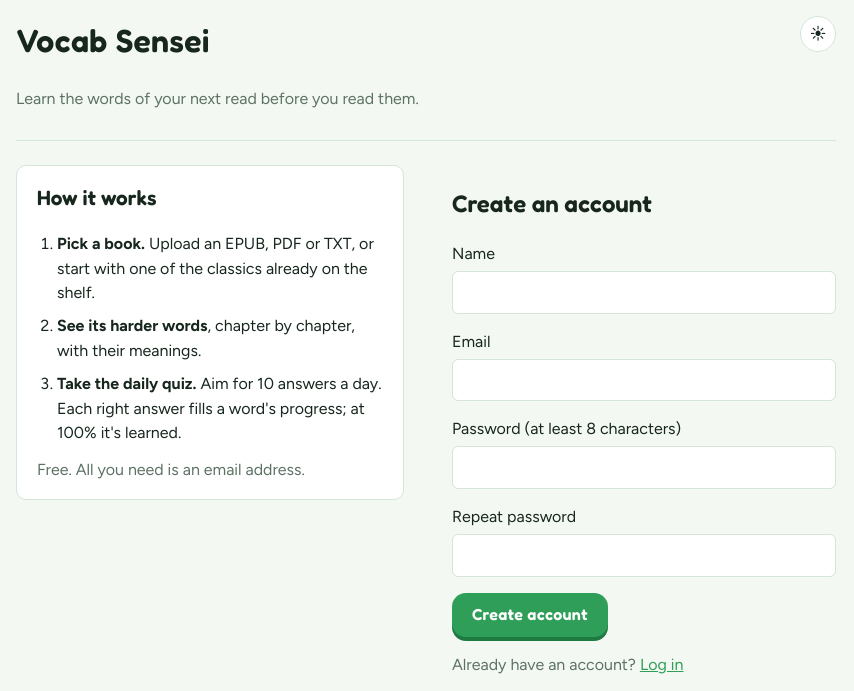
Scenario: register › creates the account and asks to check email
The width and height of the screenshot is (854, 691).
Type "Reader" into the field labelled "Name" at [644, 292], box [452,271,836,314]
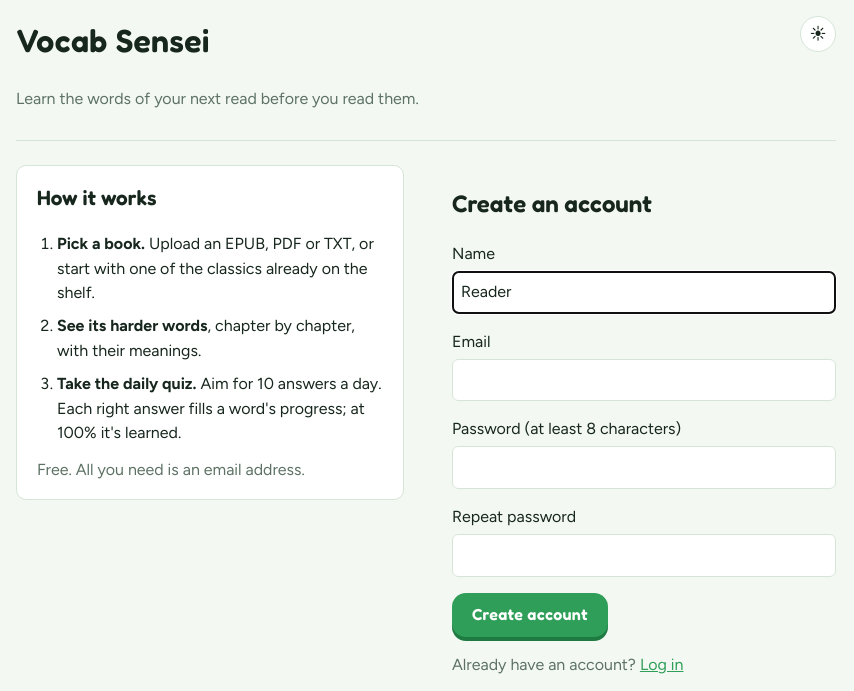
Type "reader@example.com" into the field labelled "Email" at [644, 380], box [452,359,836,402]
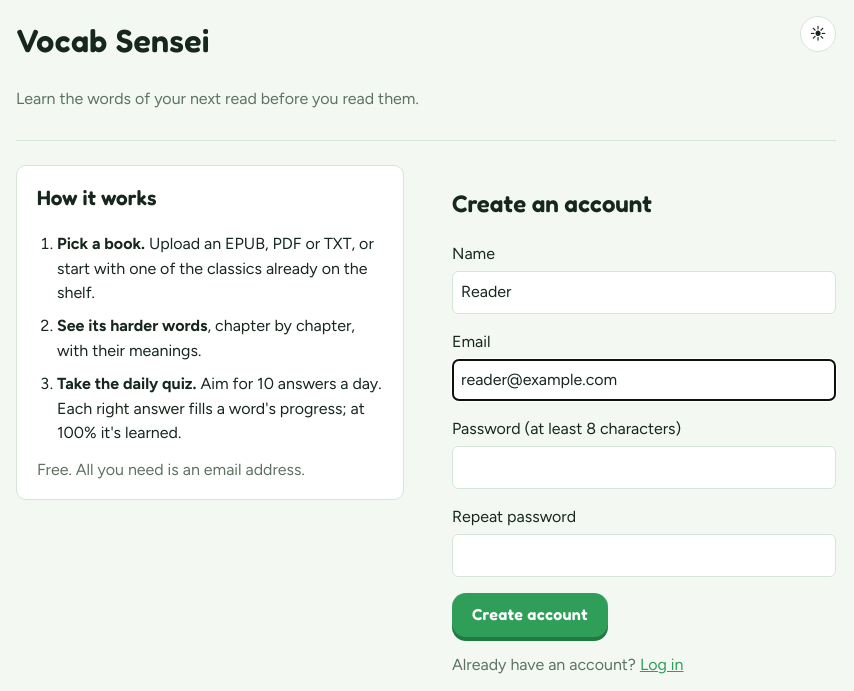
Type "correct horse battery" into the password field labelled "Password (at least 8 characters)" at [644, 468], box [452,446,836,489]
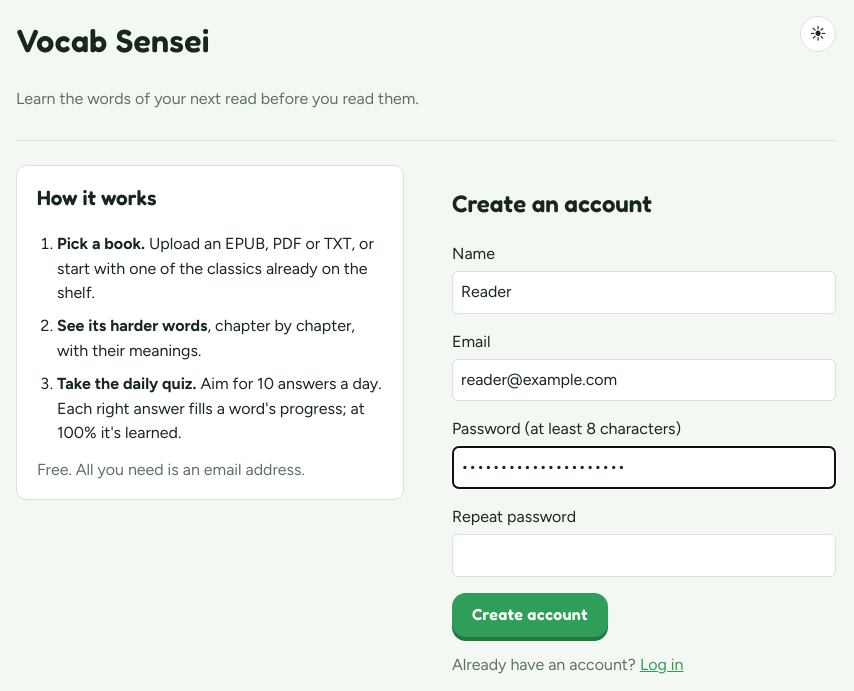
Type "correct horse battery" into the password field labelled "Repeat password" at [644, 555], box [452,534,836,577]
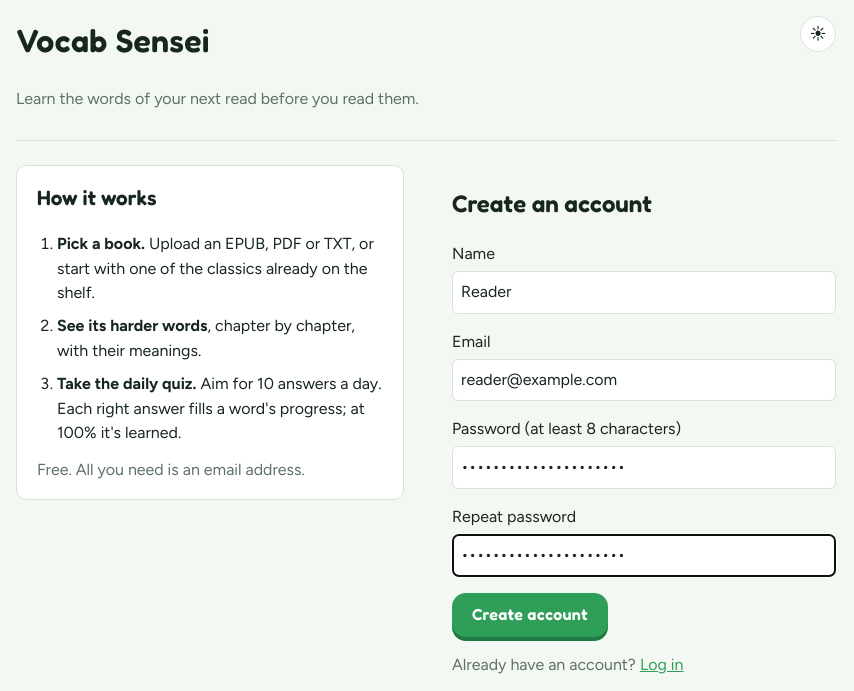
Click the button "Create account" at [530, 615], box [452,593,608,637]
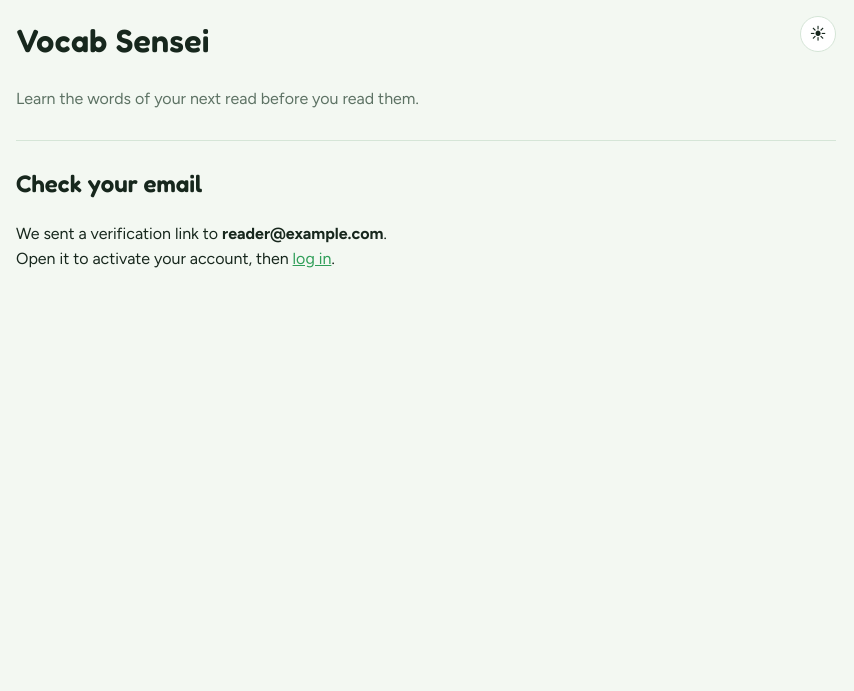
Now the heading "Check your email" is shown, box [16,169,202,198]
Now the text "reader@example.com" is shown, box [222,224,384,243]
